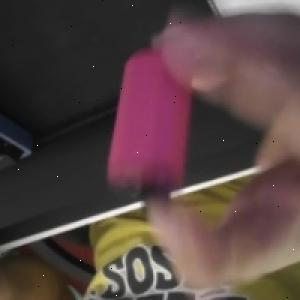Blume-E-Ciggirate: (107, 42, 196, 212)
